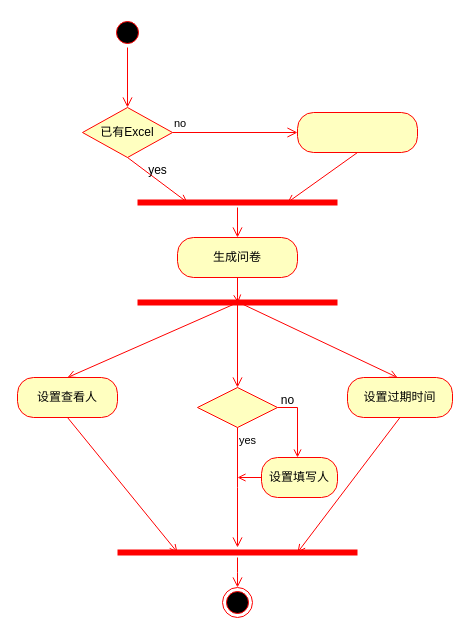
Image size: 470x635. Some labels were removed from this diagram. Each missing label, with the box of its shape:
填写问卷内容: (296, 112, 418, 152)
已有主键: (196, 386, 278, 428)
